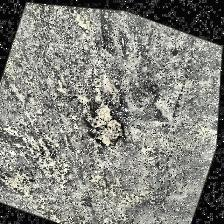pothole: (71, 91, 141, 153)
